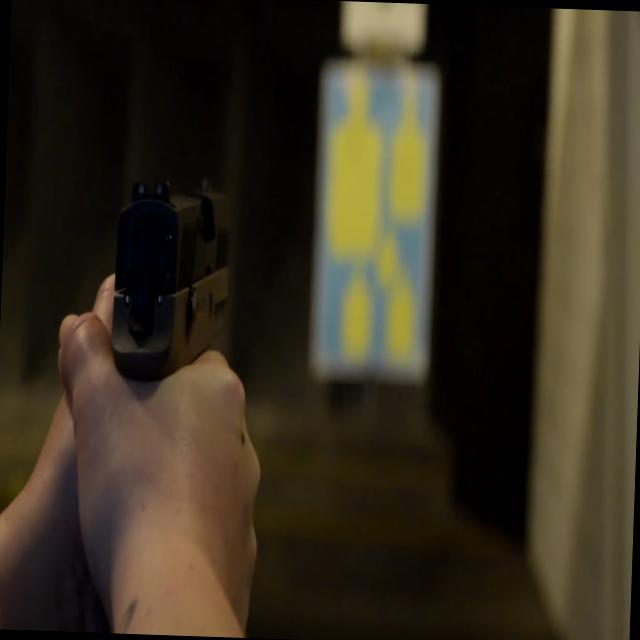handgun: (63, 133, 259, 444)
